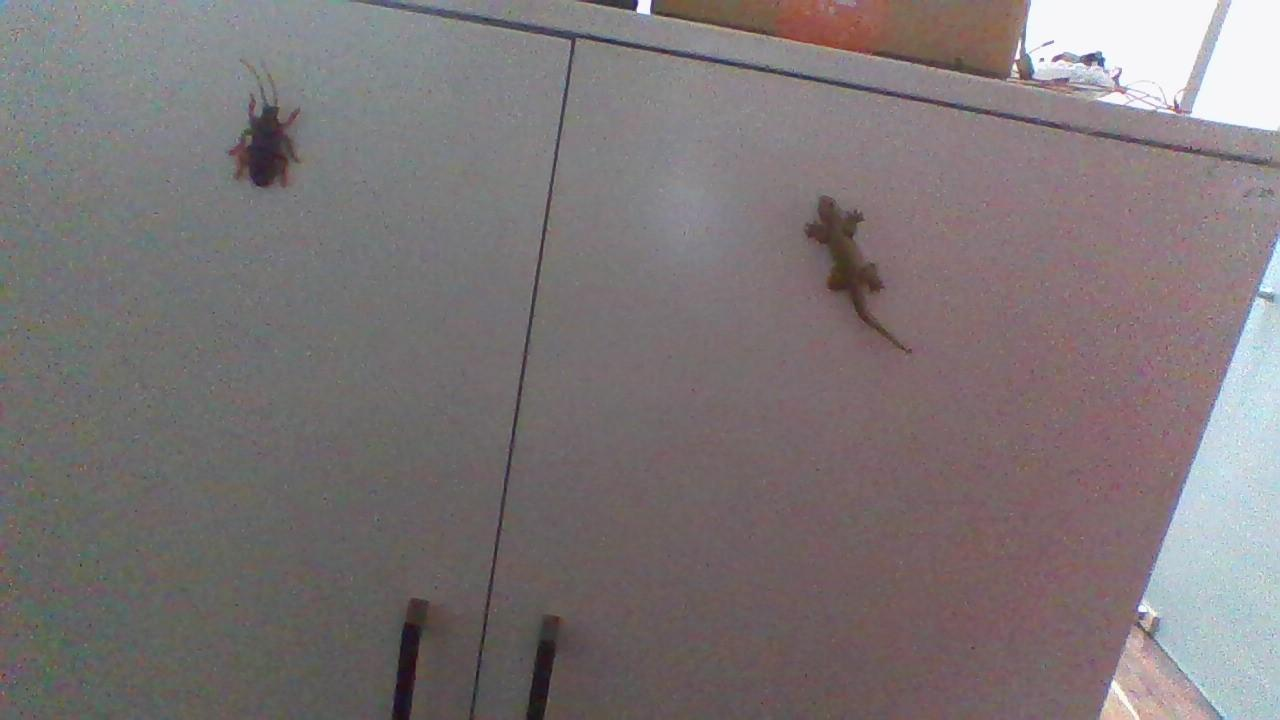cockroach: (227, 52, 309, 188)
lizard: (802, 185, 915, 357)
